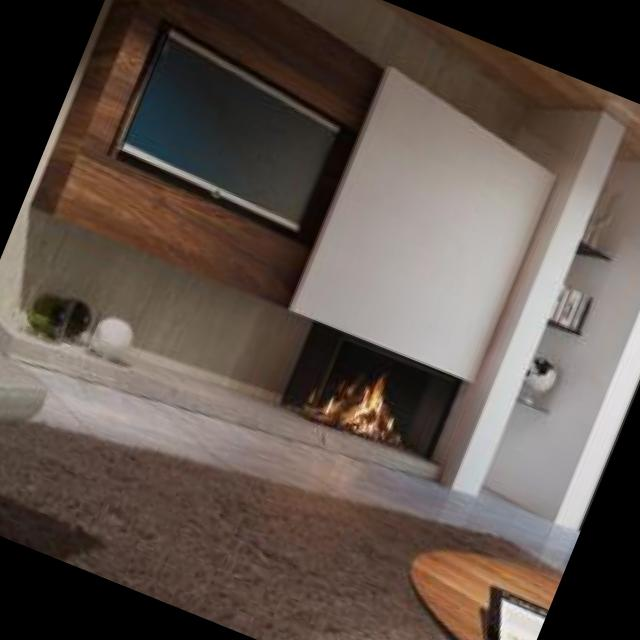fire: (306, 356, 418, 450)
